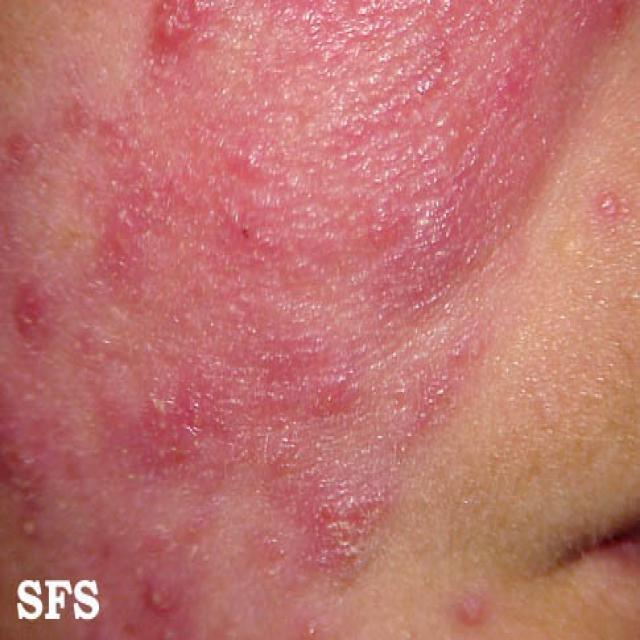Rosacea: (15, 0, 600, 619)
